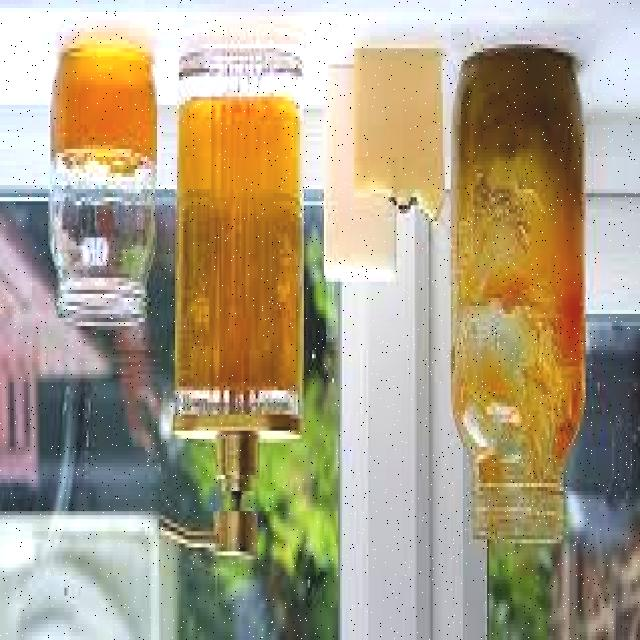liquid soap: (140, 36, 302, 571)
